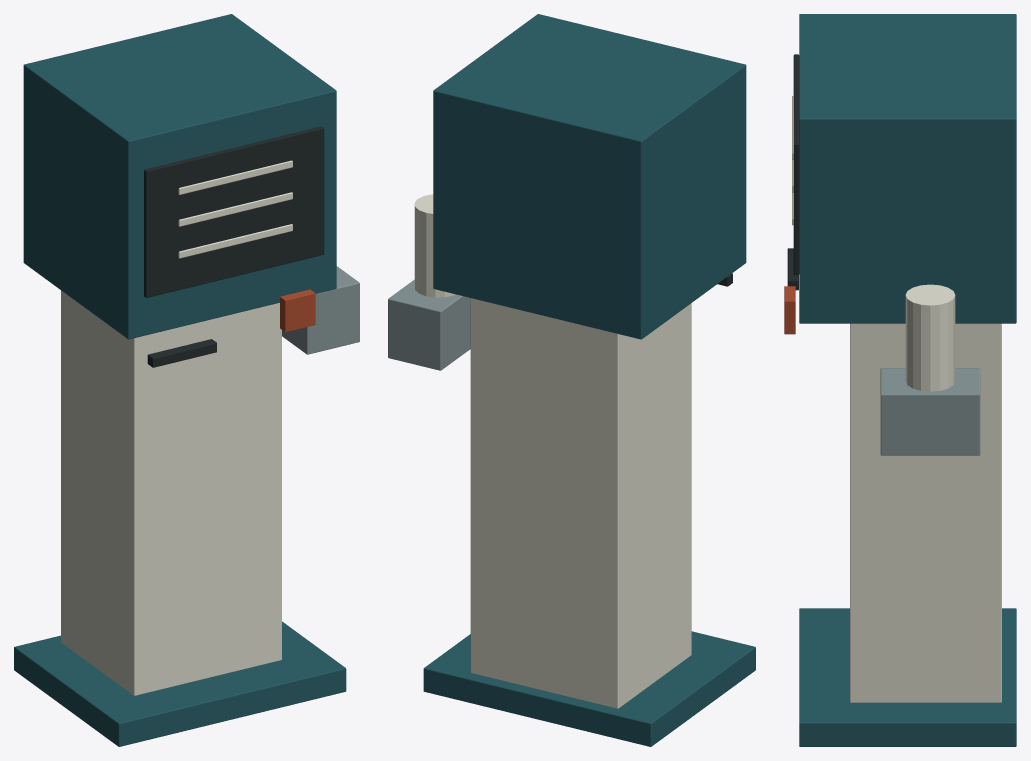
Rendered from clinic-registration-kiosk.glb.
3 renders of one model, left to right at view 1: azimuth 30°, elevation 25°; view 2: azimuth 150°, elevation 25°; view 3: azimuth 270°, elevation 25°, orthographic. The views are drawn at different scales.
Visible parts, largest first — view 1: Pedestal, Head, Display, Foot, Sanitizer_Holder, Button, Card_Slot, Interface_Line.001, Interface_Line, Interface_Line.002; view 2: Head, Pedestal, Foot, Sanitizer_Holder, Sanitizer_Bottle; view 3: Head, Pedestal, Foot, Sanitizer_Holder, Sanitizer_Bottle, Display, Button.
Part boxes in pixels (bbox=[...]): Pedestal: bbox=[61, 290, 281, 695]; Head: bbox=[23, 14, 336, 339]; Display: bbox=[144, 126, 324, 297]; Foot: bbox=[14, 621, 346, 746]; Sanitizer_Holder: bbox=[282, 266, 359, 354]; Button: bbox=[280, 289, 315, 332]; Card_Slot: bbox=[147, 339, 216, 367]; Interface_Line.001: bbox=[178, 192, 292, 226]; Interface_Line: bbox=[178, 160, 292, 194]; Interface_Line.002: bbox=[178, 224, 292, 258]; Head: bbox=[433, 14, 746, 339]; Pedestal: bbox=[470, 298, 691, 708]; Foot: bbox=[423, 631, 755, 746]; Sanitizer_Holder: bbox=[388, 279, 470, 370]; Sanitizer_Bottle: bbox=[414, 194, 454, 297]; Head: bbox=[799, 14, 1016, 323]; Pedestal: bbox=[850, 323, 1001, 702]; Foot: bbox=[799, 608, 1016, 746]; Sanitizer_Holder: bbox=[880, 368, 980, 455]; Sanitizer_Bottle: bbox=[905, 284, 955, 391]; Display: bbox=[793, 54, 799, 274]; Button: bbox=[784, 286, 795, 334].
Size of the model in its own units: 0.74 by 1.52 by 0.5125.
